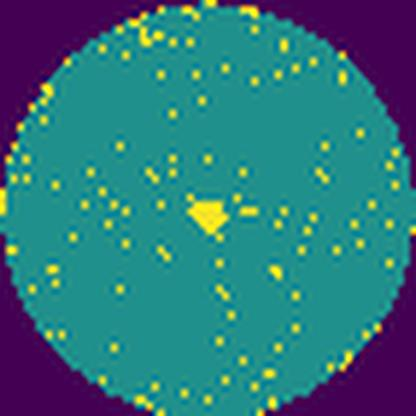Center: (188, 200, 231, 237)
